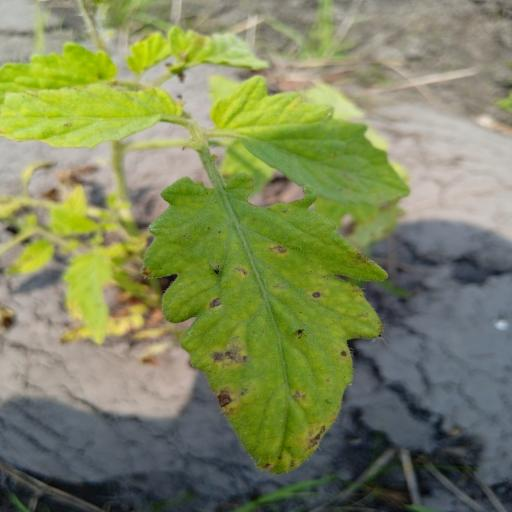Tomato_Brown_Spots: (140, 171, 390, 477), (204, 70, 416, 207), (0, 72, 187, 152)
